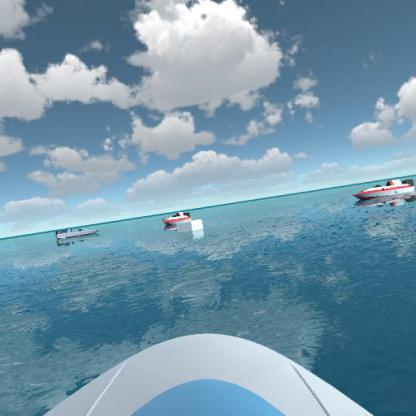usv1: (53, 222, 100, 243)
usv3: (346, 174, 415, 206), (160, 206, 196, 230)
